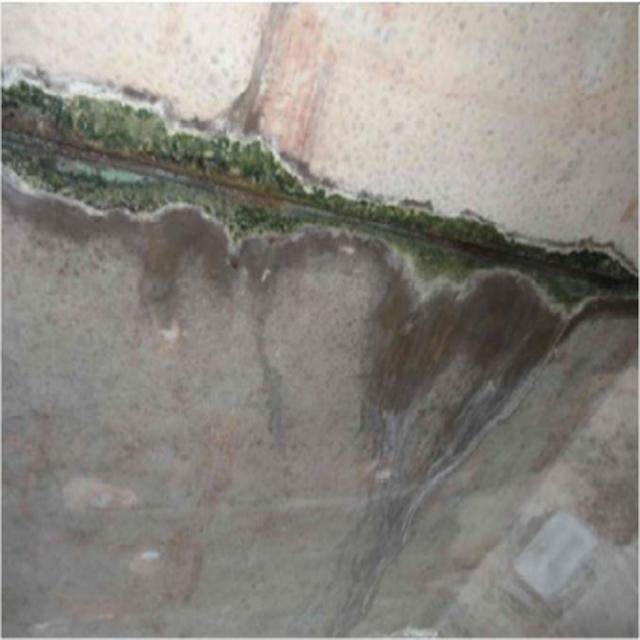leakage: (67, 171, 624, 423)
